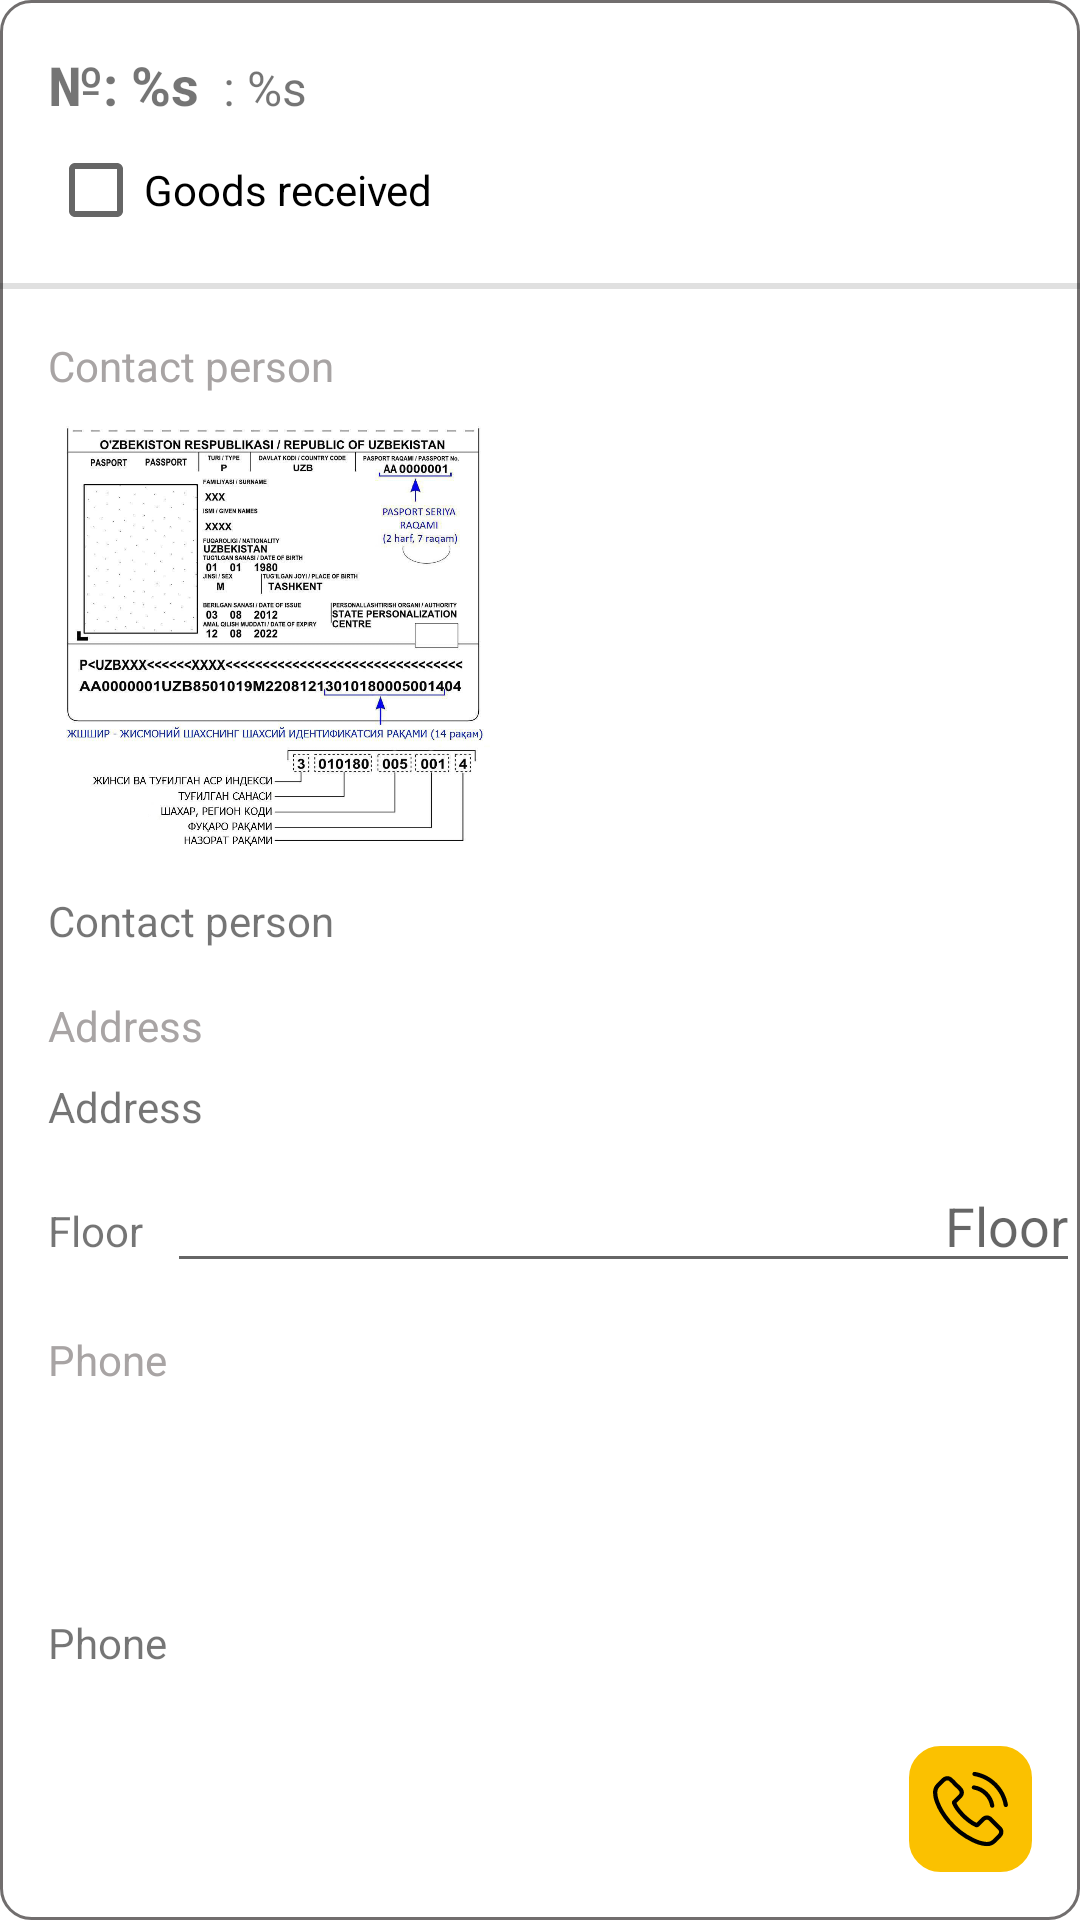

Named icons in this screenshot (1080×1920) and their centers, (x=x, y=y):
Phone: (x=970, y=1809)
